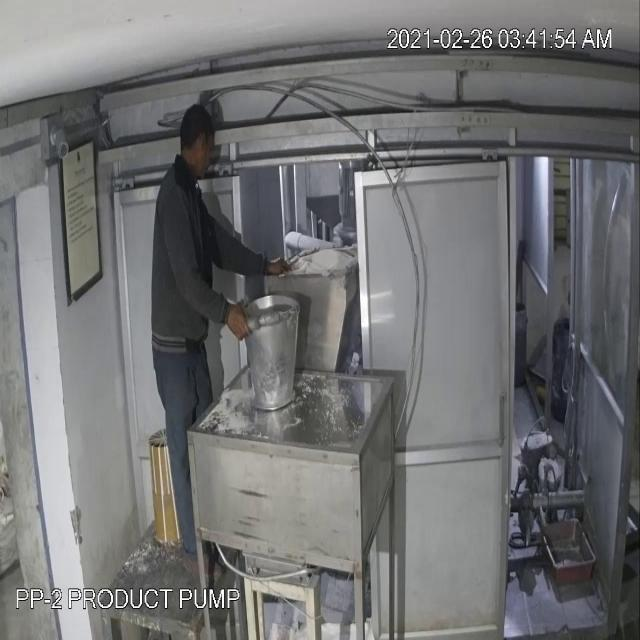no hat: (174, 105, 218, 187)
